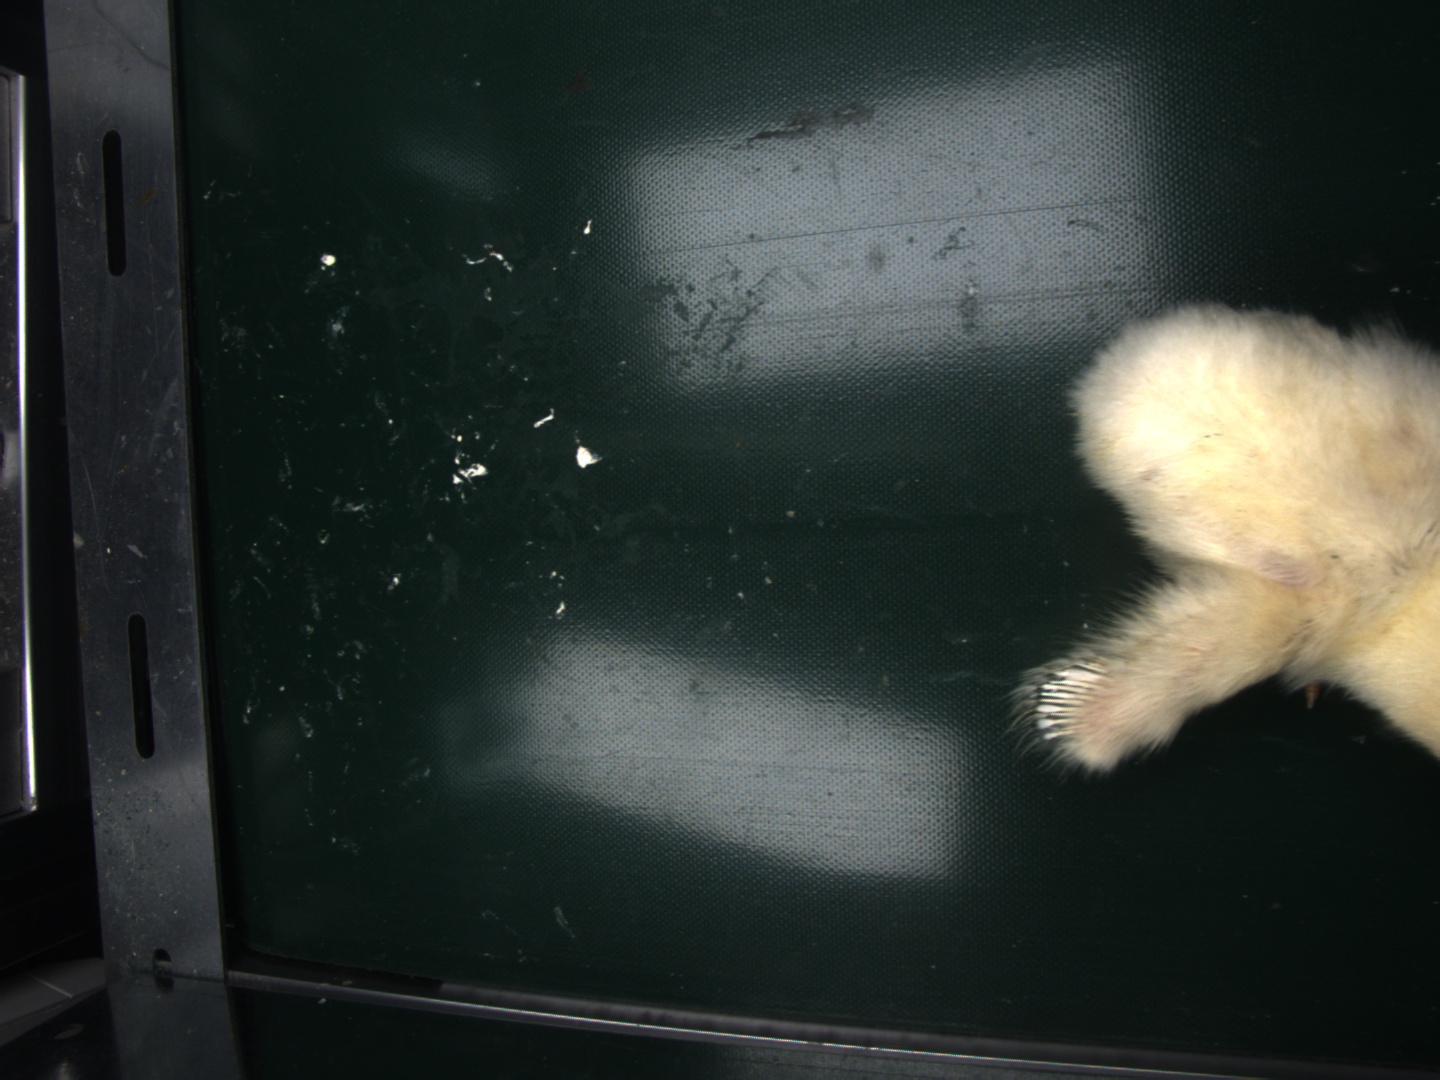male: (1033, 664, 1107, 741)
